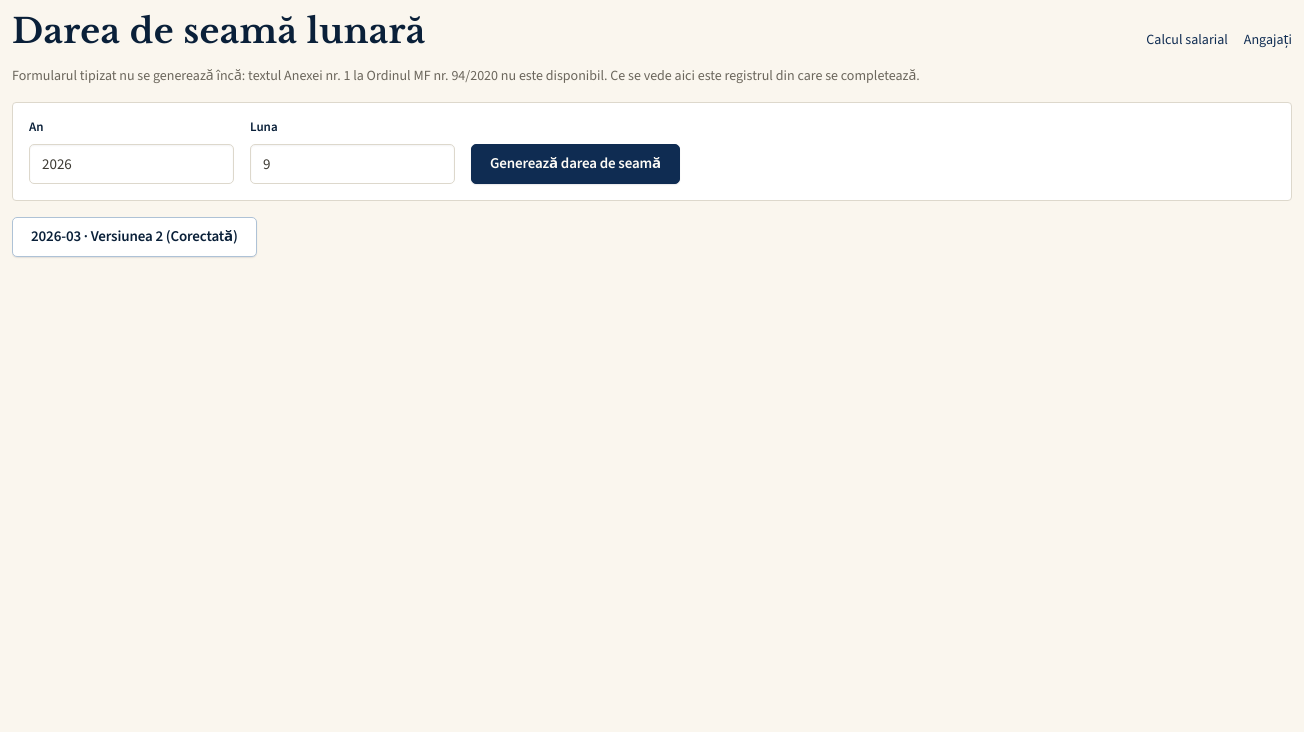
Test: ecranele › darea de seamă arată antetul, ambele secțiuni și reconcilierea în ambele sensuri
Click the button "2026-03 · Versiunea 2 (Corectată)": (134, 237) [12,217,257,257]
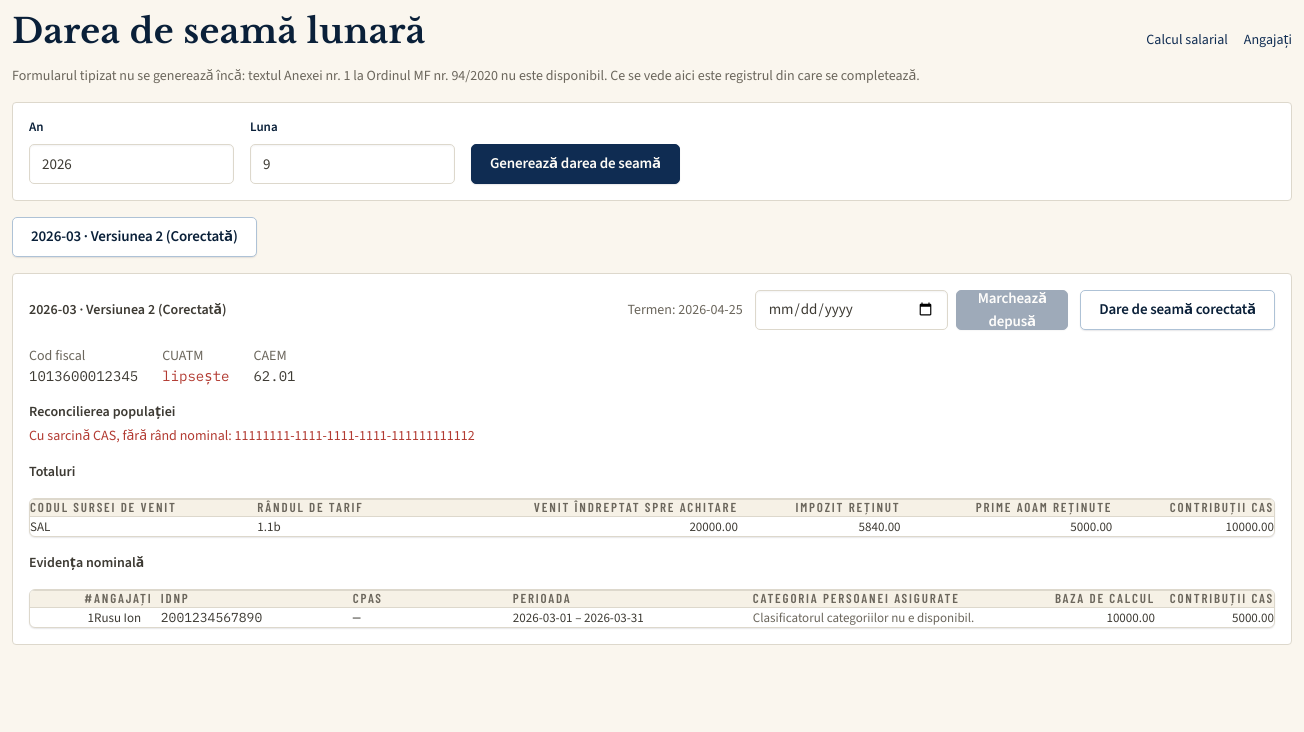
Result: the text "1013600012345" is shown at [29,366,138,386]
Result: the text "lipsește" is shown at [162,367,229,385]
Result: the text "SAL" is shown at [30,516,257,536]
